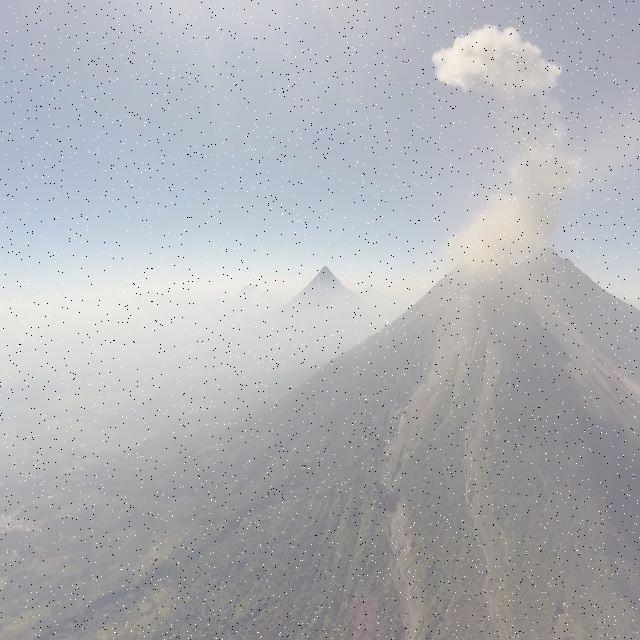Plume: (441, 128, 583, 278), (426, 18, 562, 107)
